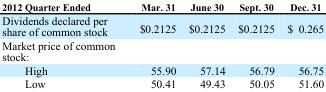table: (1, 1, 323, 89)
table column: (1, 1, 122, 89), (122, 1, 181, 89), (181, 1, 231, 89), (231, 1, 280, 89), (280, 1, 323, 89)
table column header: (1, 1, 323, 12)
table projected row header: (1, 38, 323, 63)
table row: (1, 12, 323, 38), (1, 38, 323, 63), (1, 63, 323, 76), (1, 76, 323, 89), (1, 1, 323, 12)
